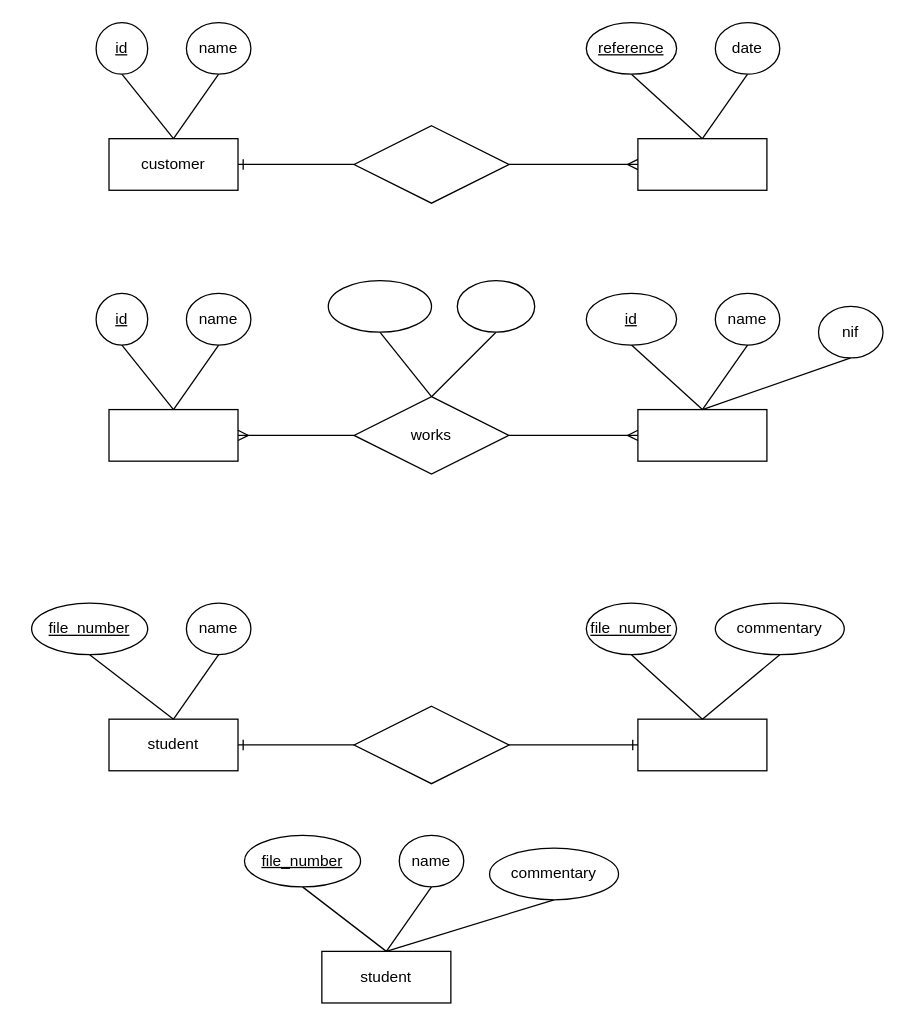
Some shapes in this 906 by 1026 pixel diagram are drawn without their labels. The shapes that lost their labels are listed below. From the top down, each one's centre as x and y in pixels, then its label:
At point 431,163: "does".
At point 702,163: "purchases".
At point 379,305: "start_date".
At point 495,305: "end_date".
At point 173,434: "worker".
At point 702,434: "company".
At point 431,744: "has".
At point 702,744: "file".
